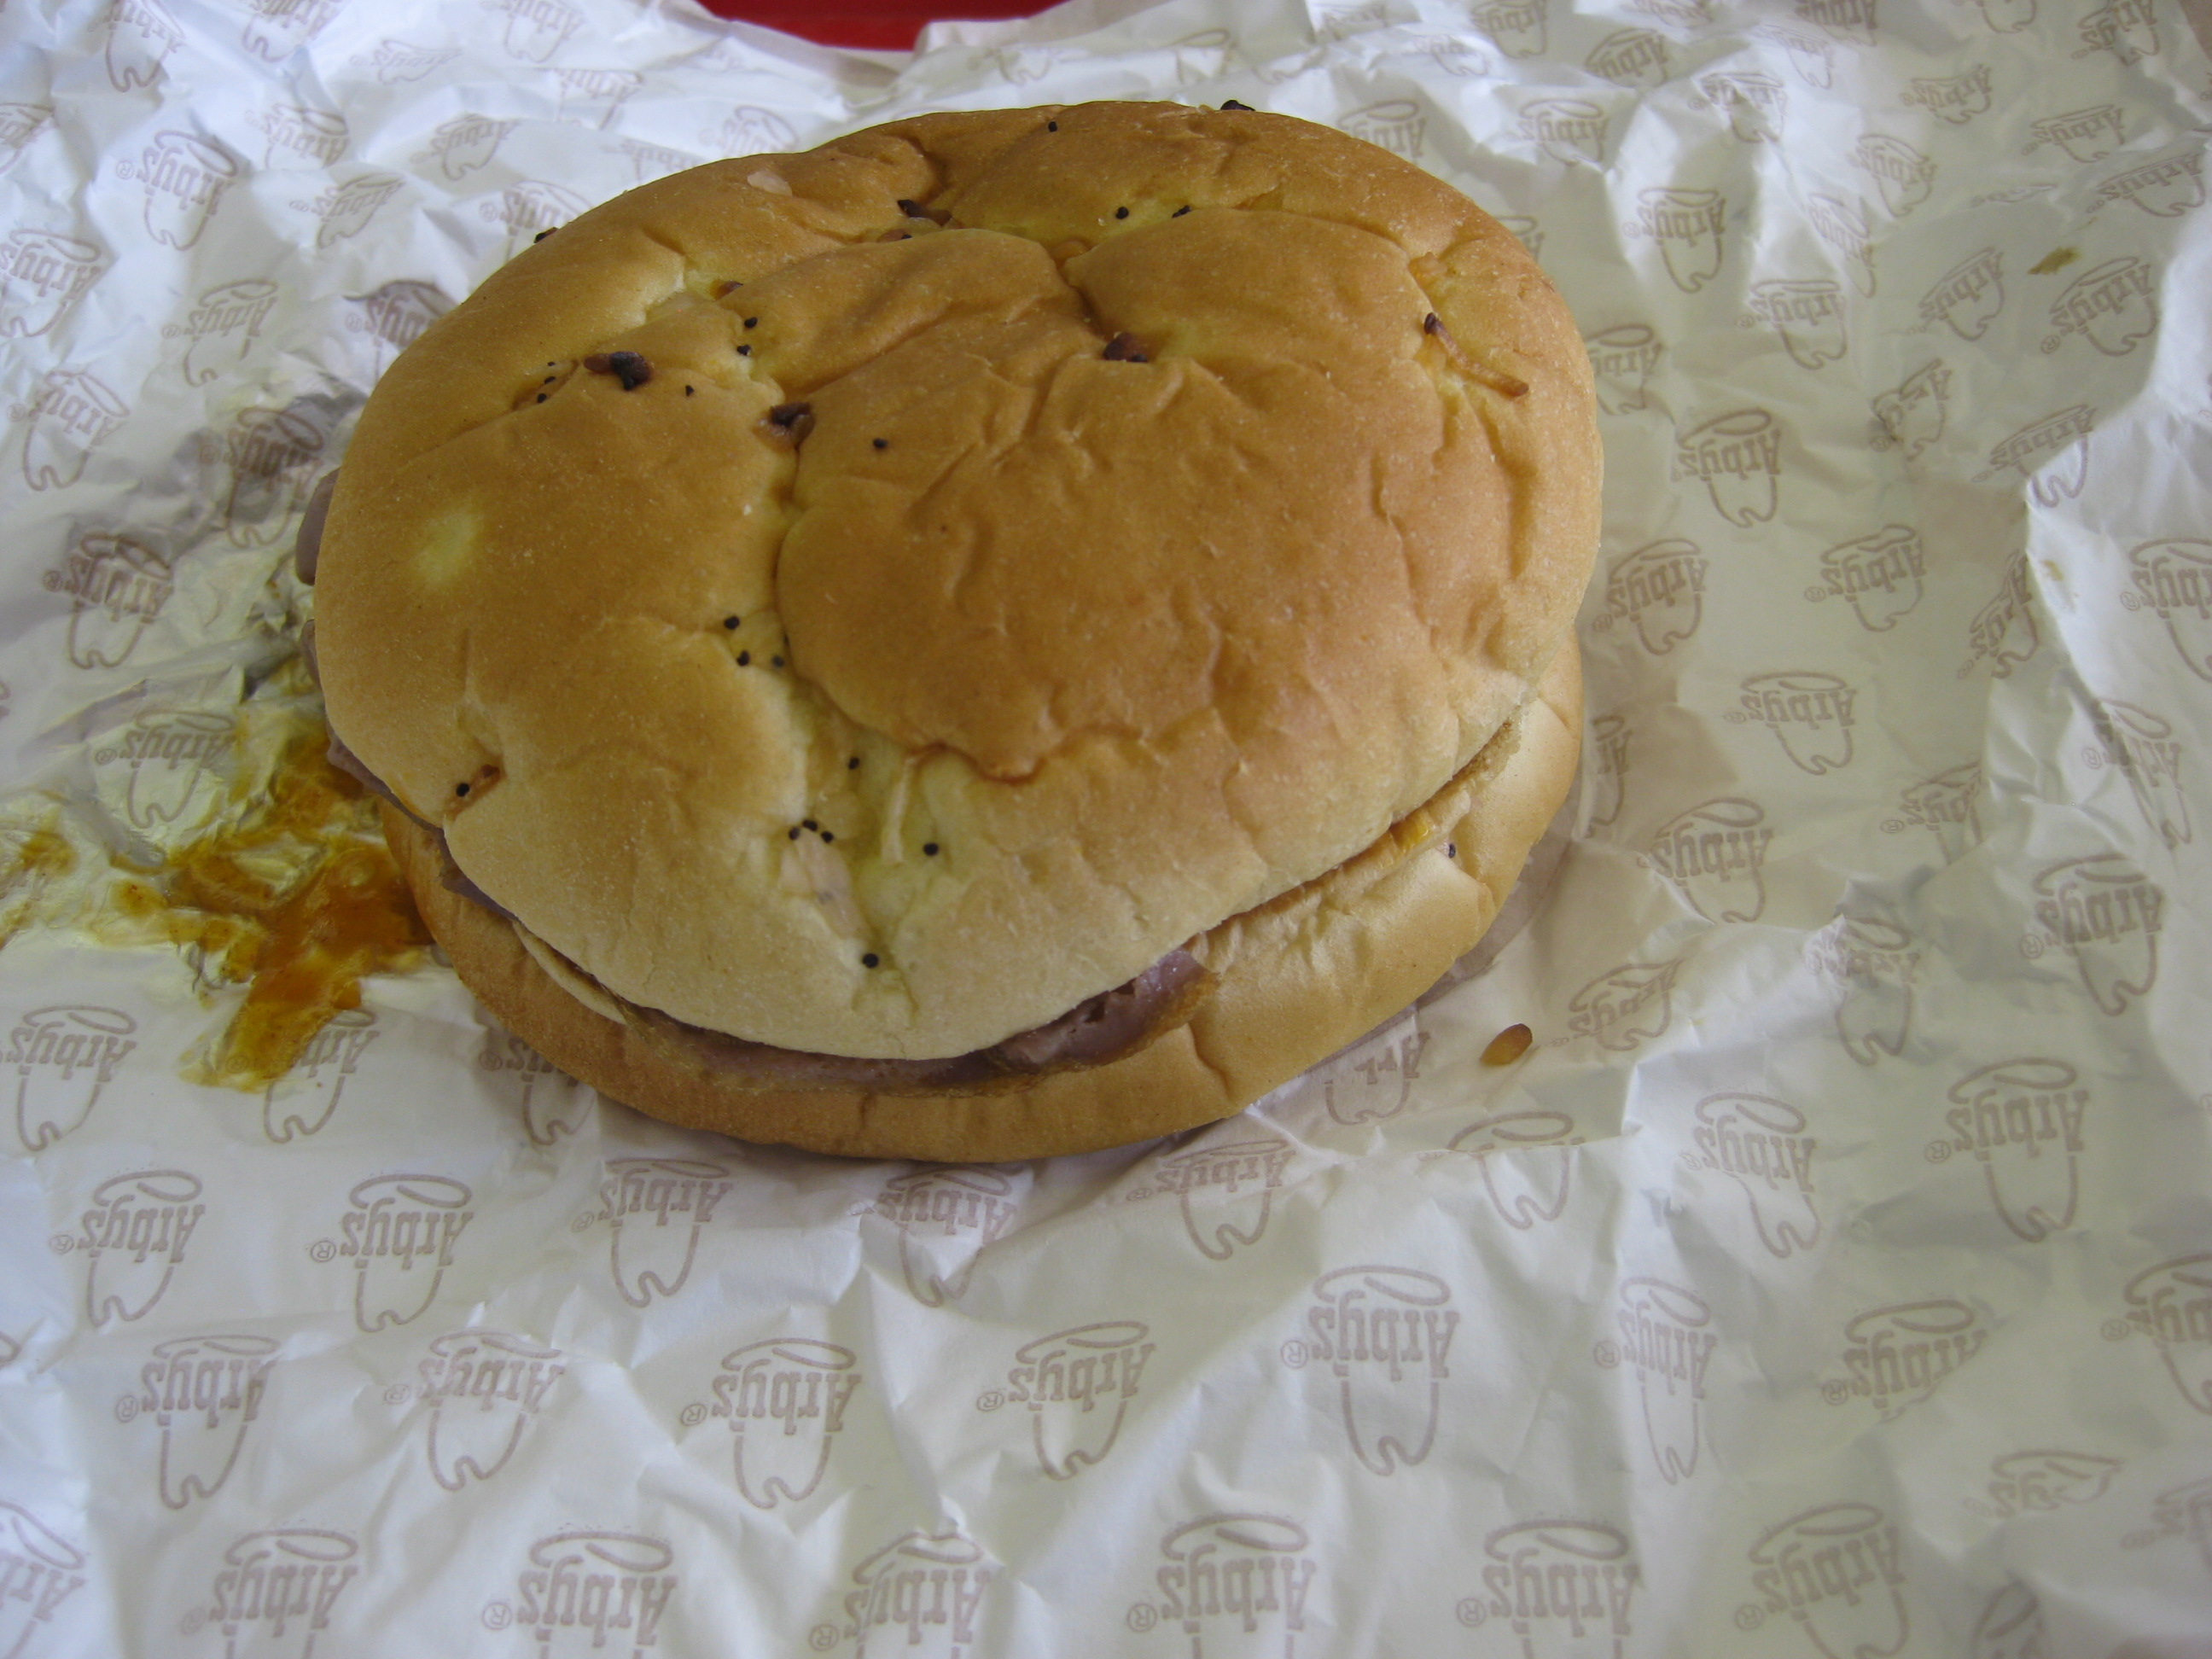burger: (251, 55, 1706, 1201)
